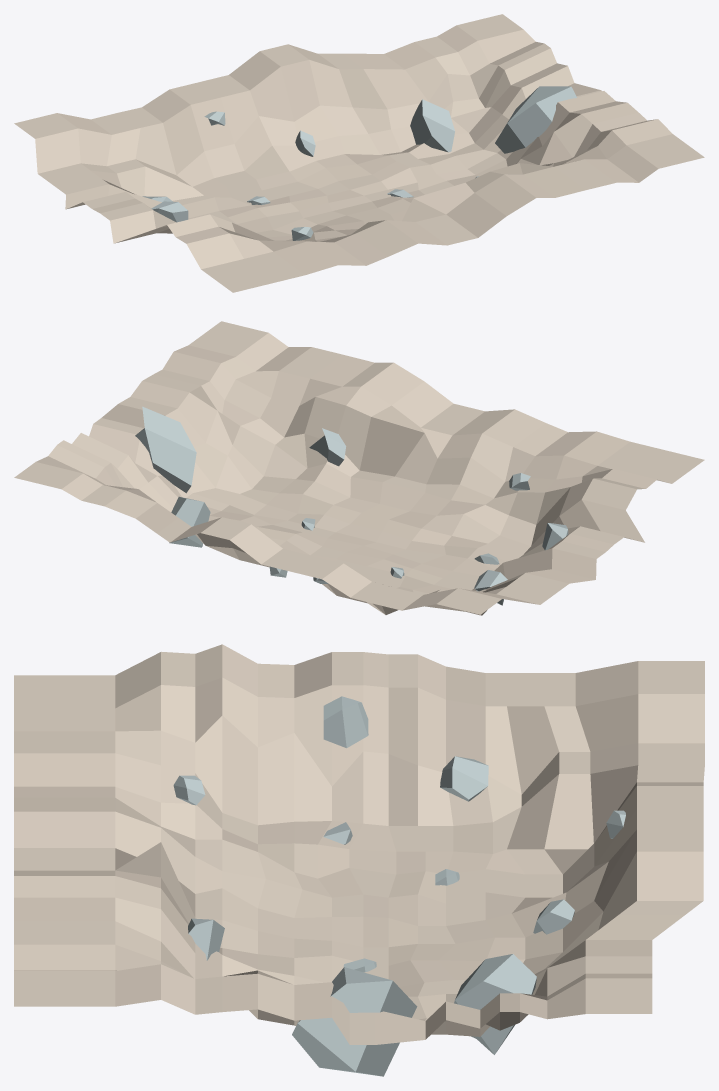
File: 041520groundModel03.gltf
3 views of the same model, one above another, from view 1: azimuth 30°, elevation 25°; view 2: azimuth 150°, elevation 25°; view 3: azimuth 270°, elevation 25° (orthographic). The views are drawn at different scales.
Visible parts, largest first — view 1: Plane, Cube.006, Cube.005, Cube.001; view 2: Plane, Cube.006, Cube.005, Cube.007, Cube.001, Cube.010; view 3: Plane, Cube.006, Cube.005, Cube.001, Cube.010, Cube.007, Cube.004, Cube.002.
Part boxes in pixels (x1,y1,x2,y2): Plane: (14,14,704,292); Cube.006: (495,86,576,153); Cube.005: (410,99,454,152); Cube.001: (151,201,188,222); Plane: (14,321,704,615); Cube.006: (135,406,196,493); Cube.005: (169,496,210,547); Cube.007: (309,428,346,466); Cube.001: (542,523,568,550); Cube.010: (474,570,507,605); Plane: (14,644,704,1044); Cube.006: (292,967,417,1076); Cube.005: (454,954,536,1054); Cube.001: (323,696,368,748); Cube.010: (440,756,488,801); Cube.007: (188,918,224,960); Cube.004: (533,899,574,934); Cube.002: (173,775,205,805).
Bounding box in the file's own units: 63.62 × 10.31 × 47.02.
